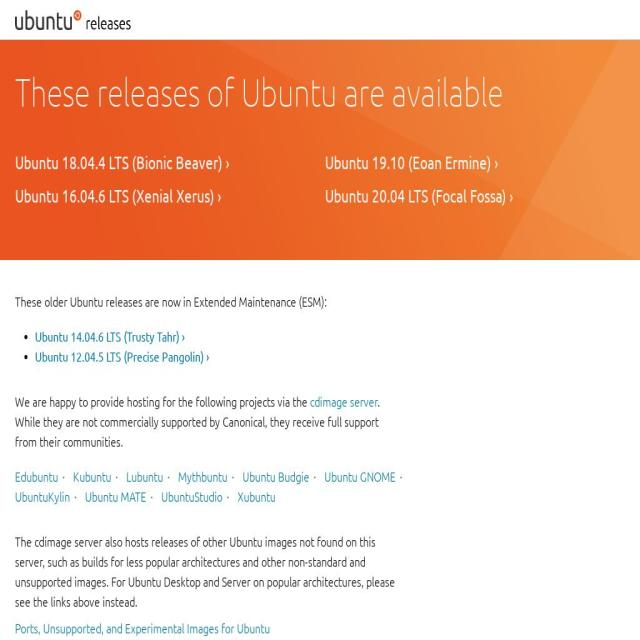button: (15, 0, 131, 40)
heading: (15, 69, 597, 116)
image: (15, 10, 131, 30)
link: (15, 152, 229, 172), (15, 186, 221, 206), (15, 621, 270, 637), (325, 186, 513, 206), (325, 152, 498, 172), (35, 348, 209, 364), (35, 328, 185, 344), (324, 468, 396, 484), (310, 394, 378, 410), (242, 468, 310, 484), (85, 488, 146, 504), (162, 488, 222, 504), (15, 488, 70, 504), (178, 468, 228, 484), (15, 468, 58, 484), (73, 468, 111, 484), (238, 488, 276, 504), (126, 468, 163, 484)
text: (15, 526, 395, 612), (15, 394, 380, 450), (15, 286, 395, 312), (15, 394, 310, 410)
